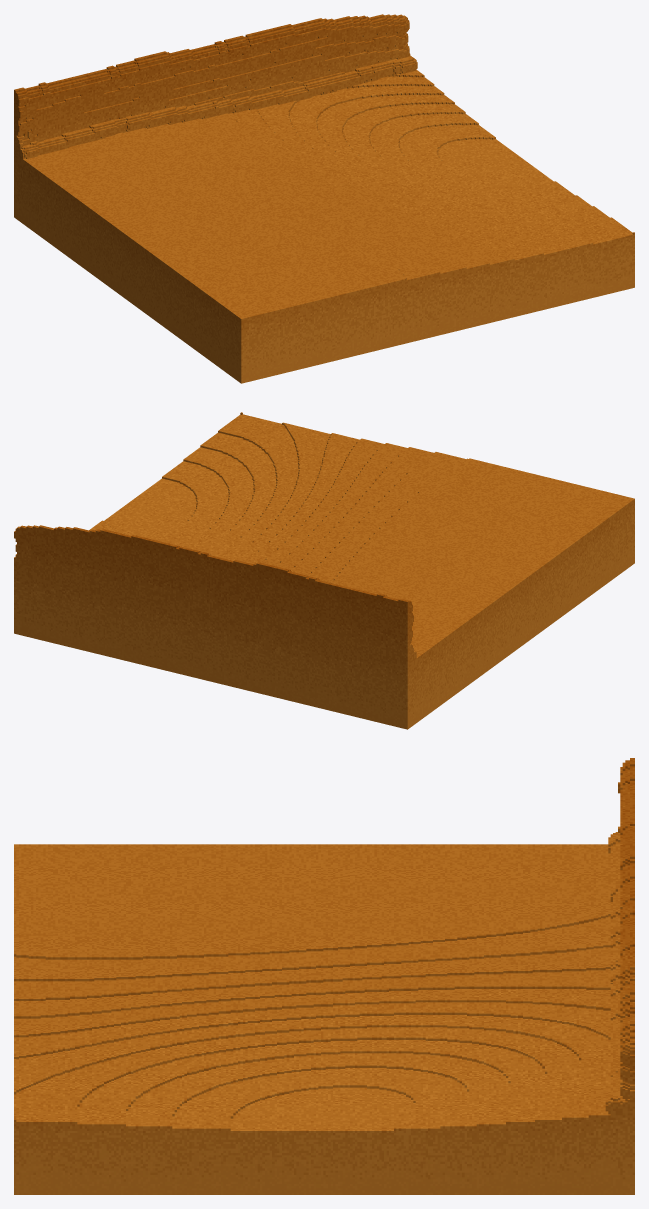
Rendered from Marte-0.obj.
The picture shows the model from 3 angles, top to bottom: view 1: azimuth 30°, elevation 25°; view 2: azimuth 150°, elevation 25°; view 3: azimuth 270°, elevation 25°; orthographic projection. The views are drawn at different scales.
Size of the model in its own units: 25.5 by 8 by 25.5.
Materials: 1 (1 with a texture image).
